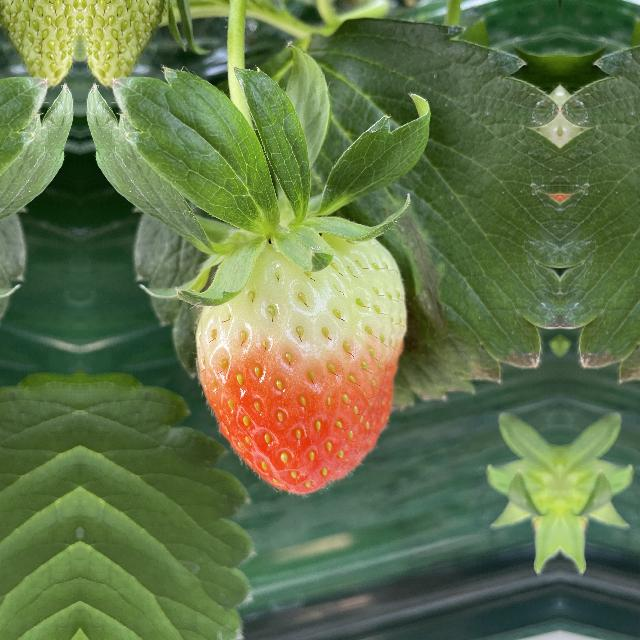Health_25: (80, 0, 162, 84), (0, 0, 80, 84)
Health_75: (188, 201, 416, 501)
